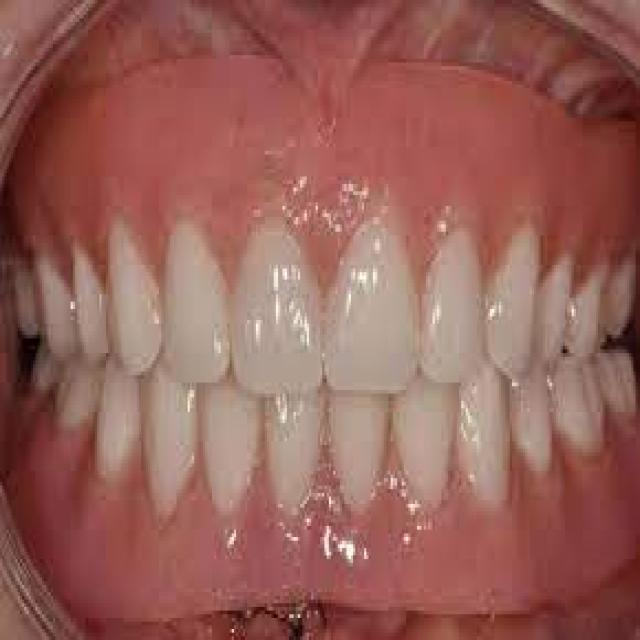tooth: (320, 214, 419, 386), (234, 228, 322, 386), (156, 235, 230, 379), (420, 235, 486, 382), (481, 232, 545, 379), (388, 375, 462, 500), (106, 243, 170, 371), (263, 386, 331, 504), (141, 364, 199, 497), (463, 379, 521, 507), (334, 386, 388, 500), (201, 397, 256, 508), (93, 368, 150, 471), (499, 379, 554, 471), (2, 239, 51, 338), (547, 357, 596, 452), (77, 250, 119, 353), (530, 250, 567, 364), (563, 268, 607, 357), (596, 250, 633, 339), (44, 268, 82, 346), (55, 353, 93, 430), (600, 335, 634, 419), (35, 328, 55, 408)
